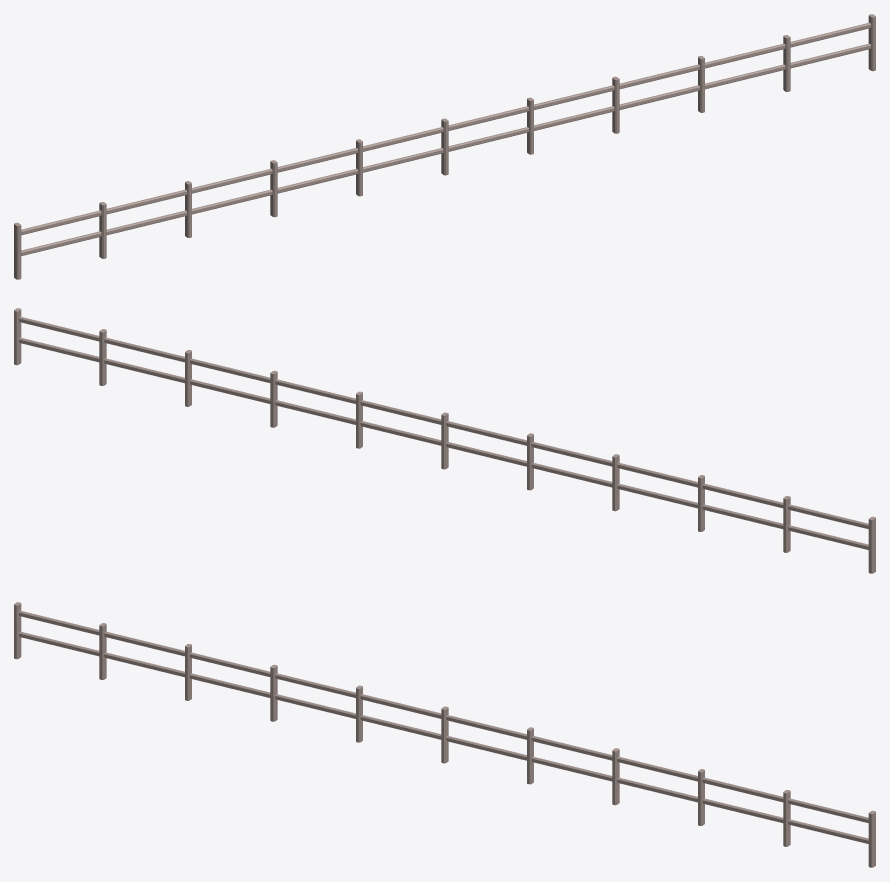
Rendered from 1019_fence_10.glb.
3 renders of one model, top to bottom at view 1: azimuth 30°, elevation 25°; view 2: azimuth 150°, elevation 25°; view 3: azimuth 330°, elevation 25°, orthographic.
Parts seen in each view (by area): view 1: Body; view 2: Body; view 3: Body.
Part boxes in pixels (x1=…): Body: x1=14, y1=14, x2=875, y2=279; Body: x1=14, y1=308, x2=875, y2=573; Body: x1=14, y1=602, x2=875, y2=867.
Size of the model in its own units: 15.08 by 0.9 by 0.12.
